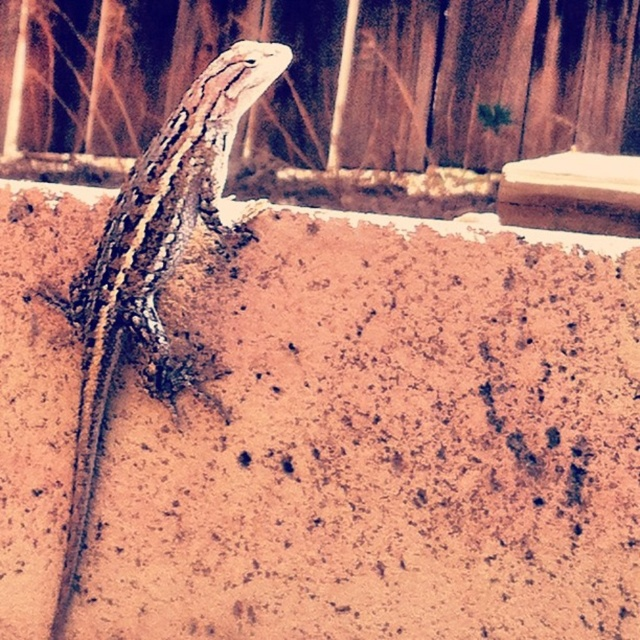Lizard: (43, 33, 284, 620)
